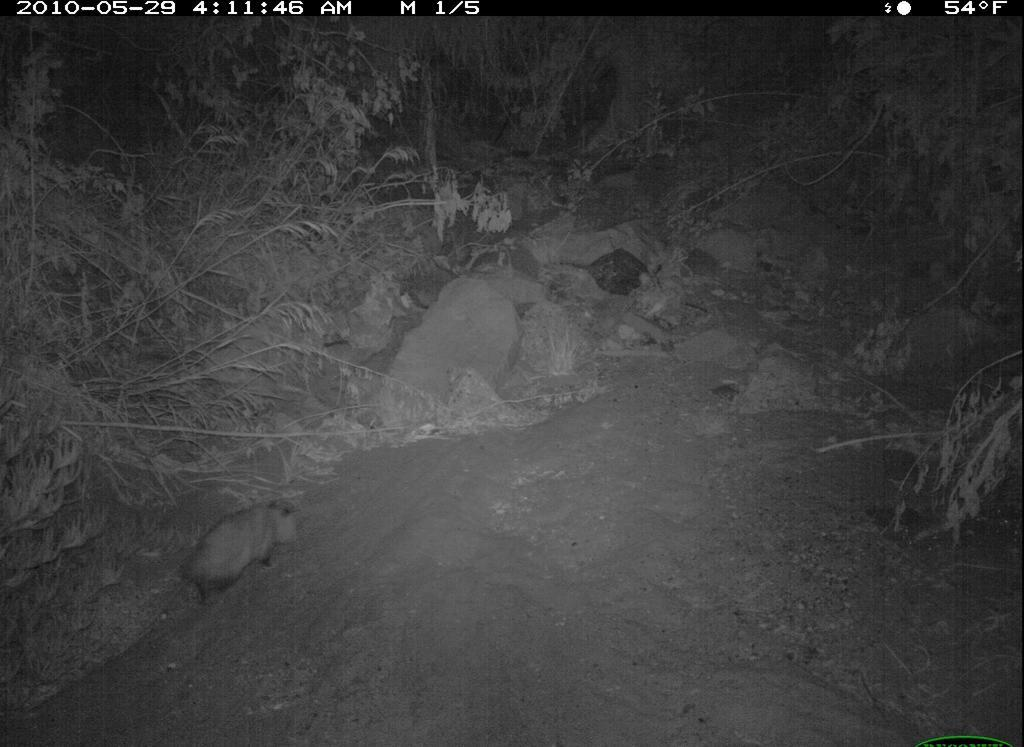opossum: (150, 486, 344, 626)
